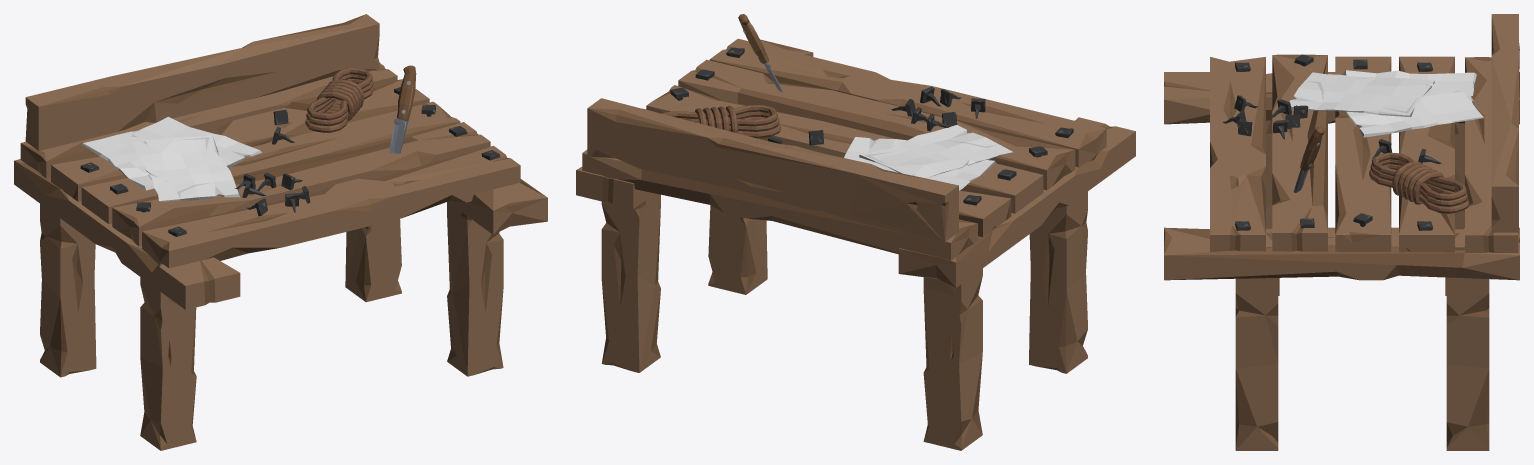
The model's file is mesh_plank_craftingbench.fbx.
3 renders of one model, left to right at view 1: azimuth 30°, elevation 25°; view 2: azimuth 150°, elevation 25°; view 3: azimuth 270°, elevation 25°, orthographic. The views are drawn at different scales.
Parts seen in each view (by area): view 1: mesh_plank_craftingbench; view 2: mesh_plank_craftingbench; view 3: mesh_plank_craftingbench.
Part boxes in pixels (left/top/right/bottom): mesh_plank_craftingbench: left=14, top=14, right=547, bottom=450; mesh_plank_craftingbench: left=576, top=14, right=1135, bottom=450; mesh_plank_craftingbench: left=1164, top=14, right=1519, bottom=450.
Bounding box in the file's own units: 1.66 × 1.25 × 1.36.
